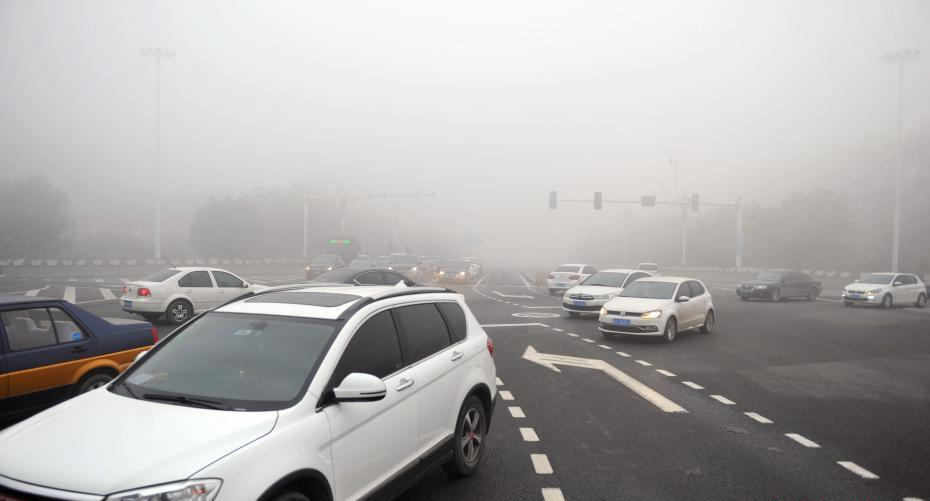bus: (318, 233, 387, 265)
car: (1, 275, 499, 501), (1, 293, 160, 415), (292, 265, 458, 324), (119, 265, 275, 326), (597, 274, 716, 343), (561, 268, 659, 320), (840, 270, 930, 306), (735, 268, 823, 303), (548, 264, 600, 294), (384, 252, 422, 287), (304, 254, 345, 282), (341, 253, 384, 279), (414, 255, 446, 284), (438, 259, 470, 285), (631, 262, 663, 286), (455, 256, 480, 279), (453, 260, 475, 282)
